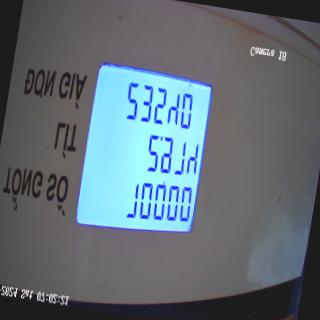screen: (70, 58, 220, 254)
